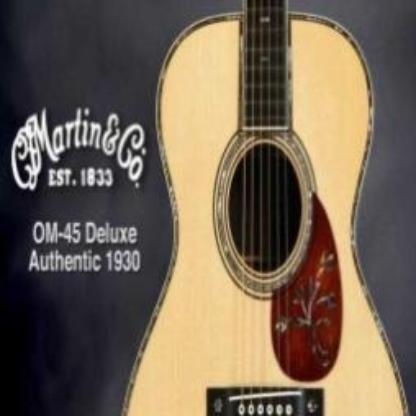acousticguitar: (120, 0, 410, 416)
